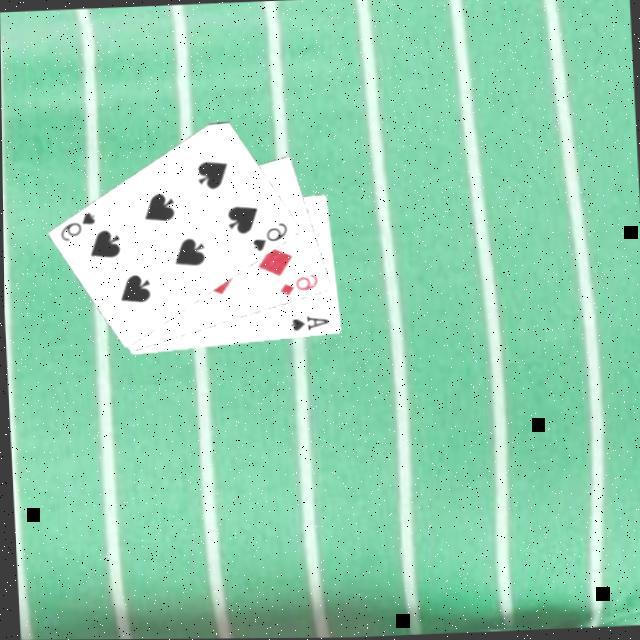6D: (276, 271, 323, 301)
6S: (57, 208, 100, 244), (249, 220, 292, 255)
AS: (288, 312, 333, 336)
